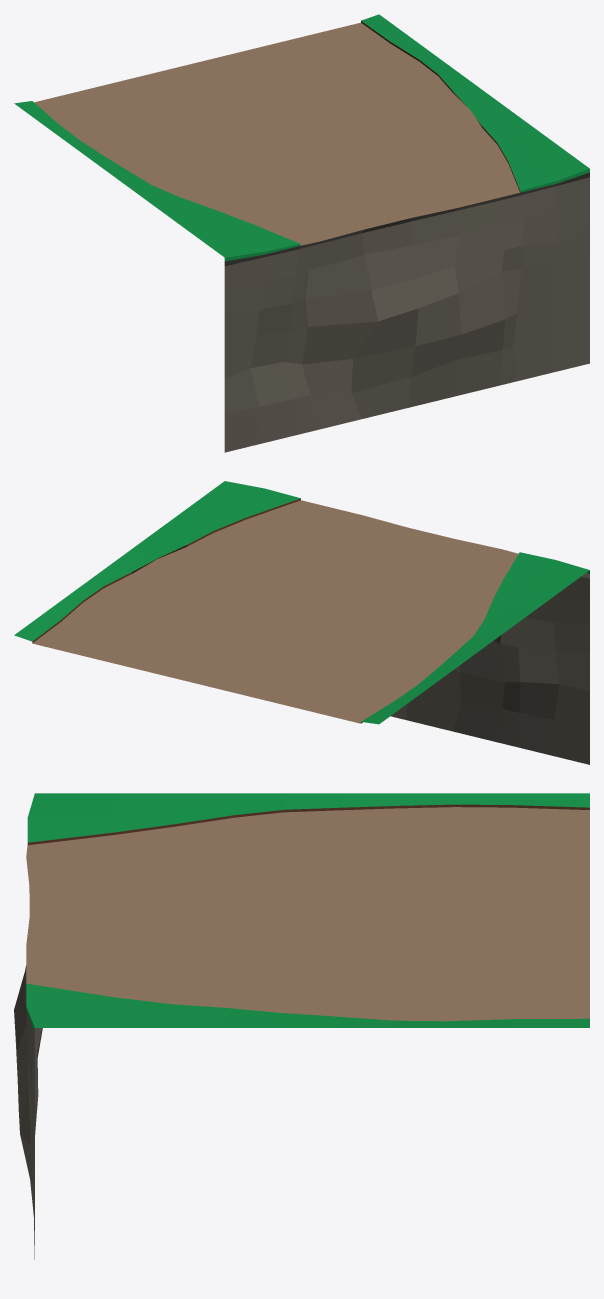
File: Gravel_End.fbx
3 views of the same model, one above another, from view 1: azimuth 30°, elevation 25°; view 2: azimuth 150°, elevation 25°; view 3: azimuth 270°, elevation 25° (orthographic). The views are drawn at different scales.
Parts seen in each view (by area): view 1: Plane; view 2: Plane; view 3: Plane.
Boxes of the visible parts, left/top/right/bottom form: Plane: left=14, top=14, right=589, bottom=452; Plane: left=14, top=481, right=589, bottom=764; Plane: left=14, top=793, right=589, bottom=1259.
Size of the model in its own units: 20 by 10.2 by 20.75.
